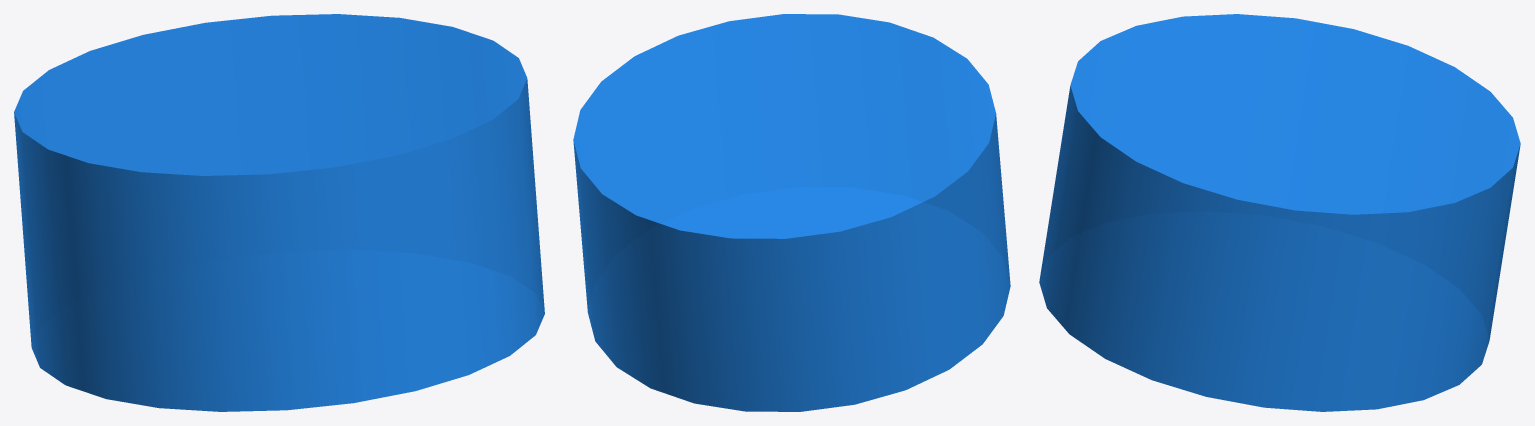
Rendered from Event_105588474_MET.fbx.
The picture shows the model from 3 angles, left to right: view 1: azimuth 30°, elevation 25°; view 2: azimuth 150°, elevation 25°; view 3: azimuth 270°, elevation 25°; orthographic projection. The views are drawn at different scales.
Parts seen in each view (by area): view 1: Model; view 2: Model; view 3: Model.
Boxes of the visible parts, x1,y1,x2,y2 form: Model: (14,14,544,411); Model: (573,14,1010,411); Model: (1039,14,1520,411).
Size of the model in its own units: 0.04 by 0.0248 by 0.0423.
